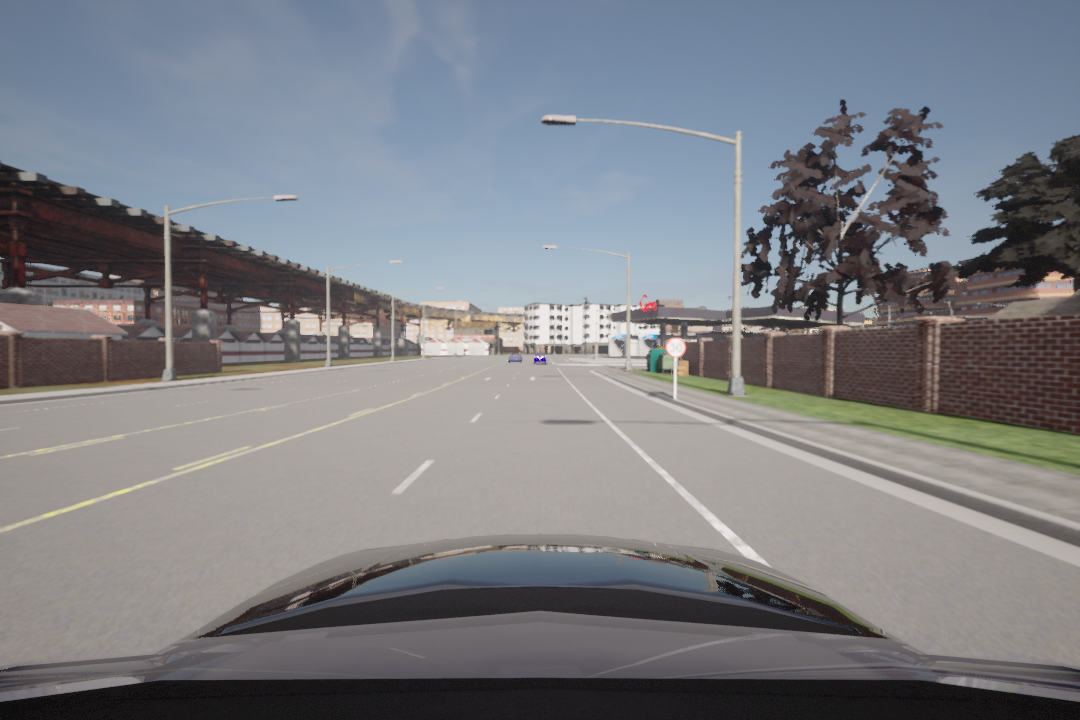TrafficSign_speed: (667, 336, 687, 358)
